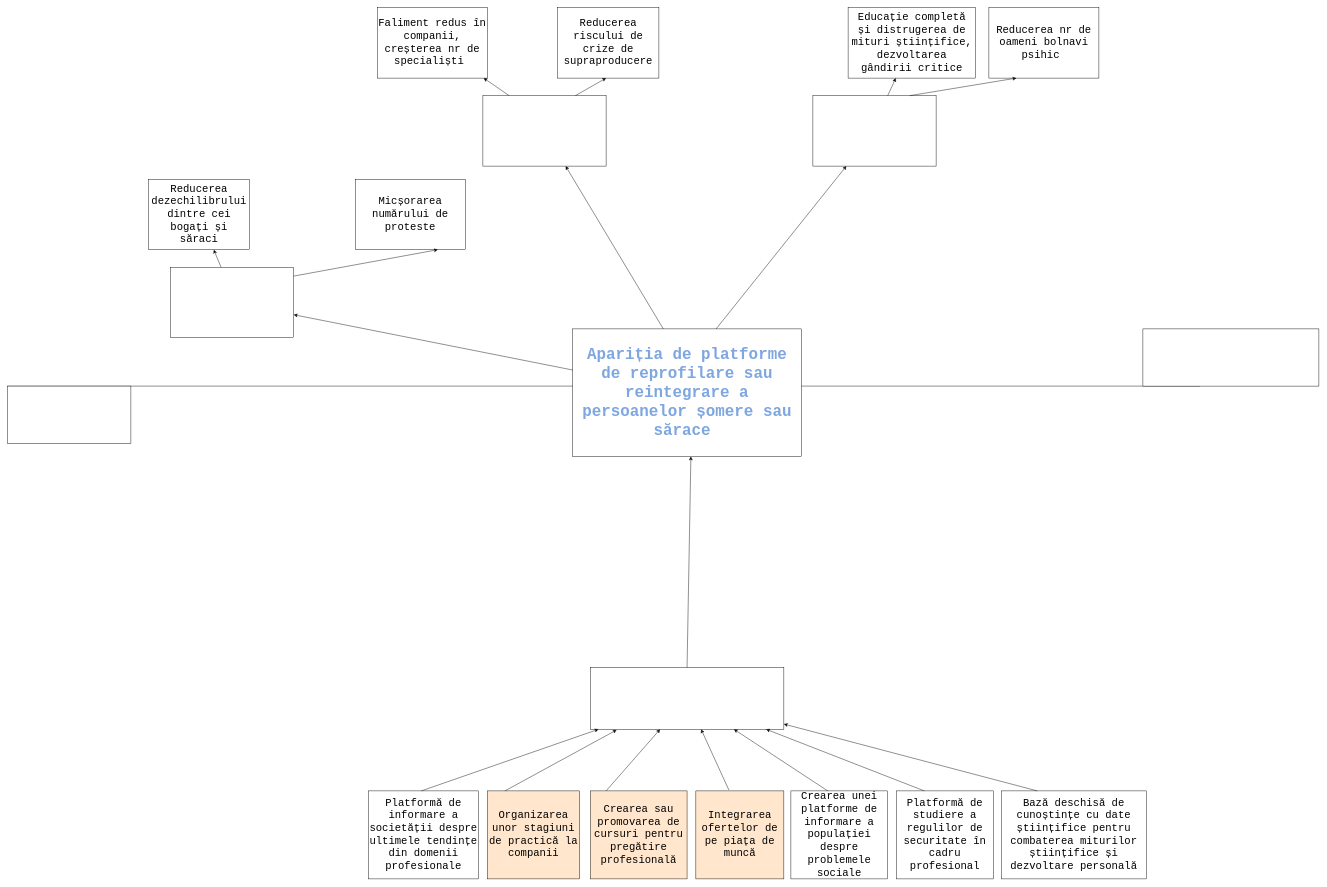
Image size: 1327x887. Some labels were removed from this diagram. Each missing label, with the box of its shape:
Crearea unei componente de reprofilare profesională și de informare a populației: (590, 667, 784, 729)
Creșterea nivellui intelectual în societate: (812, 95, 936, 166)
Dezvoltare stabilă a economiei: (482, 95, 606, 166)
Micșorarea inegalității sociale: (170, 267, 294, 338)
OBIECTIVE: (7, 386, 131, 443)
REZULTATE: (1142, 328, 1319, 386)
